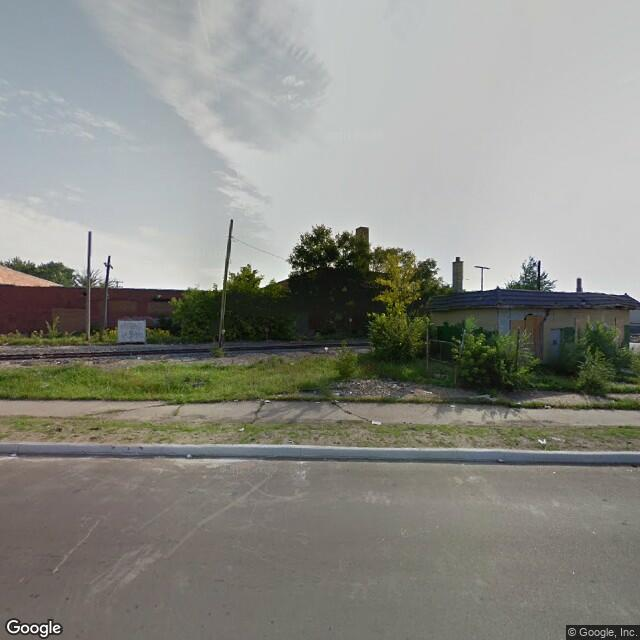litter: (364, 414, 390, 430), (183, 448, 198, 464), (535, 433, 551, 447), (233, 422, 253, 432), (262, 393, 275, 407)
